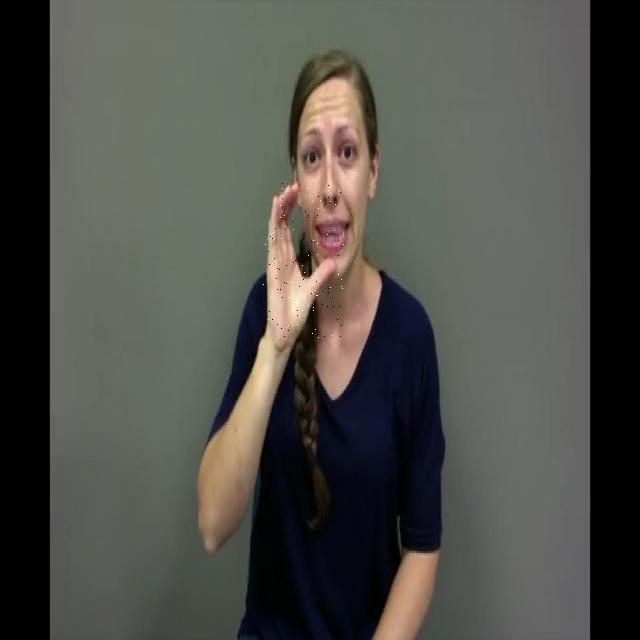drink: (263, 182, 345, 340)
